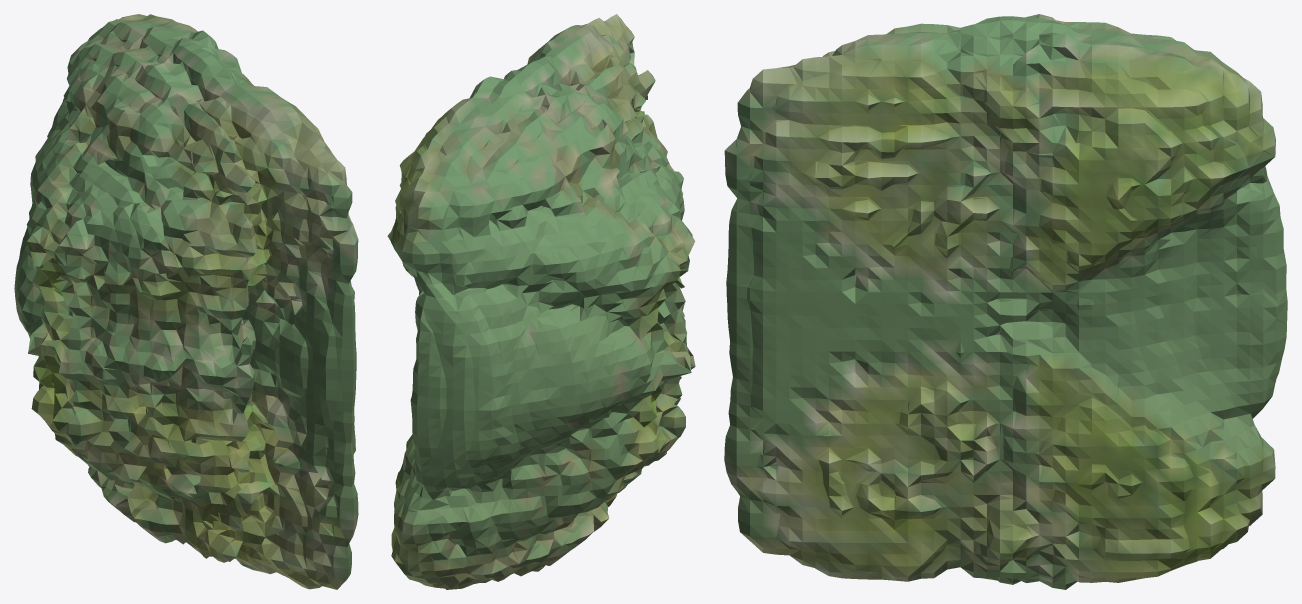
File: fern_nave.glb
The picture shows the model from 3 angles, left to right: view 1: azimuth 30°, elevation 25°; view 2: azimuth 150°, elevation 25°; view 3: azimuth 270°, elevation 25°; orthographic projection. The views are drawn at different scales.
Parts seen in each view (by area): view 1: world; view 2: world; view 3: world.
Part boxes in pixels (x1,y1,x2,y2): world: [14, 14, 358, 589]; world: [387, 14, 695, 589]; world: [724, 14, 1287, 589].
Size of the model in its own units: 3.01 by 6 by 5.42.
